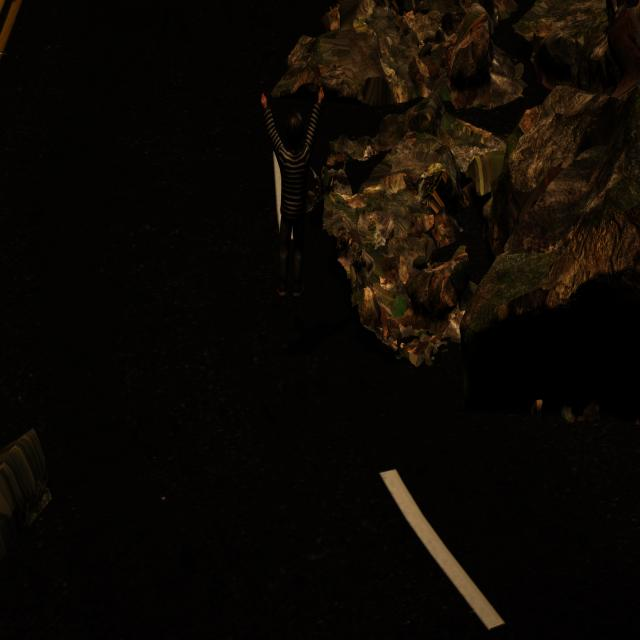Human: (256, 90, 331, 302)
